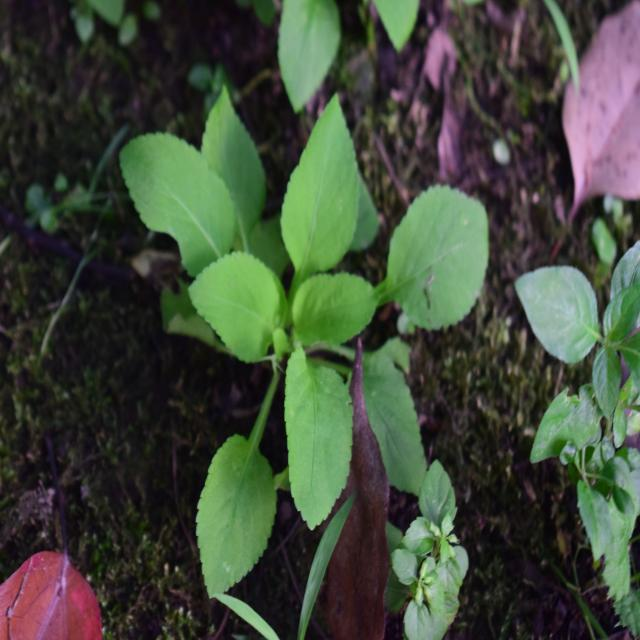Viola: (134, 111, 462, 504)
